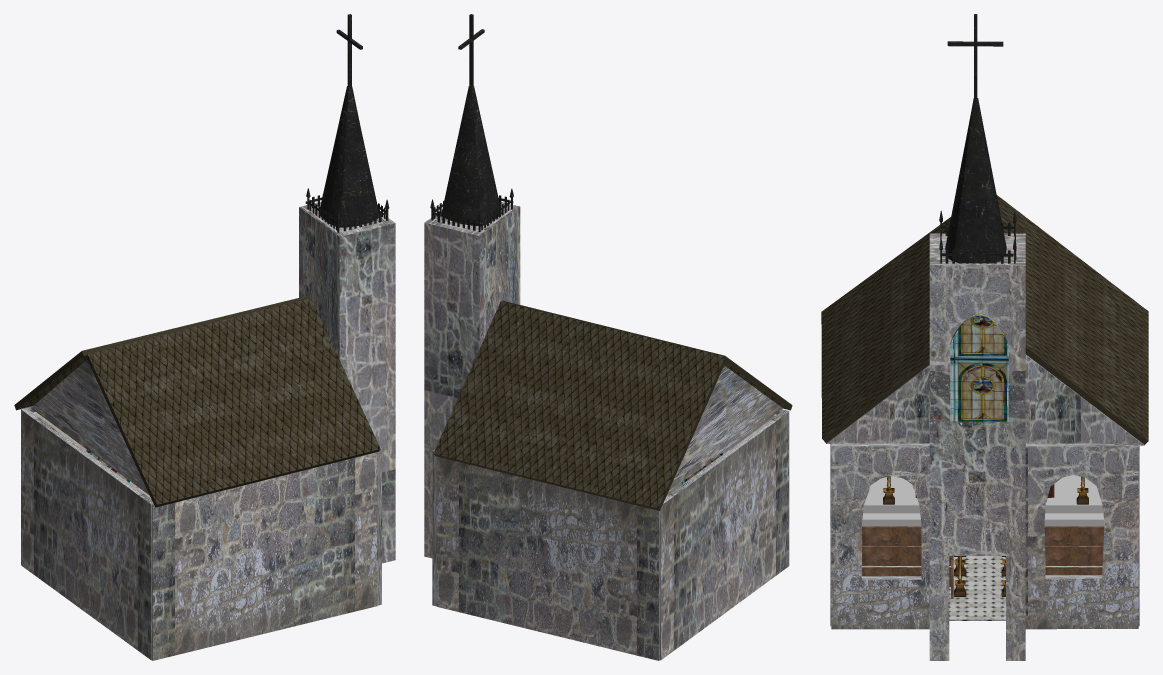
Rendered from Chapel.fbx.
3 renders of one model, left to right at view 1: azimuth 30°, elevation 25°; view 2: azimuth 150°, elevation 25°; view 3: azimuth 270°, elevation 25°, orthographic. The views are drawn at different scales.
Visible parts, largest first — view 1: pCube82, pCube85, pCube87, pCube89, pCube84, pCube23, pCube81, pCube88; view 2: pCube81, pCube86, pCube87, pCube89, pCube84, pCube23, pCube82, pCube88; view 3: pCube88, pCube89, pCube81, pCube82, pCube80, pCube74, pCube23, pCube52, polySurface17, pCube62, pCube63, pCube60 (+4 smaller).
Boxes of the visible parts, x1,y1,x2,y2 form: pCube82: (86, 298, 380, 507); pCube85: (151, 452, 377, 660); pCube87: (21, 408, 152, 660); pCube89: (299, 201, 395, 563); pCube84: (31, 360, 149, 495); pCube23: (320, 86, 378, 227); pCube81: (14, 295, 309, 410); pCube88: (377, 448, 381, 605); pCube81: (433, 301, 726, 510); pCube86: (436, 456, 659, 660); pCube87: (660, 410, 788, 660); pCube89: (424, 202, 520, 558); pCube84: (668, 365, 782, 491); pCube23: (441, 86, 501, 225); pCube82: (502, 300, 792, 410); pCube88: (432, 448, 436, 606); pCube88: (831, 443, 1138, 629); pCube89: (929, 233, 1025, 660); pCube81: (996, 195, 1148, 444); pCube82: (821, 217, 950, 443); pCube80: (826, 354, 1144, 445); pCube74: (950, 313, 1008, 421); pCube23: (945, 98, 1006, 263); pCube52: (862, 475, 1104, 526); polySurface17: (862, 556, 1102, 620); pCube62: (862, 546, 953, 565); pCube63: (862, 526, 921, 545); pCube60: (1044, 526, 1104, 545).
Size of the model in its own units: 15.35 by 26.99 by 12.67.
